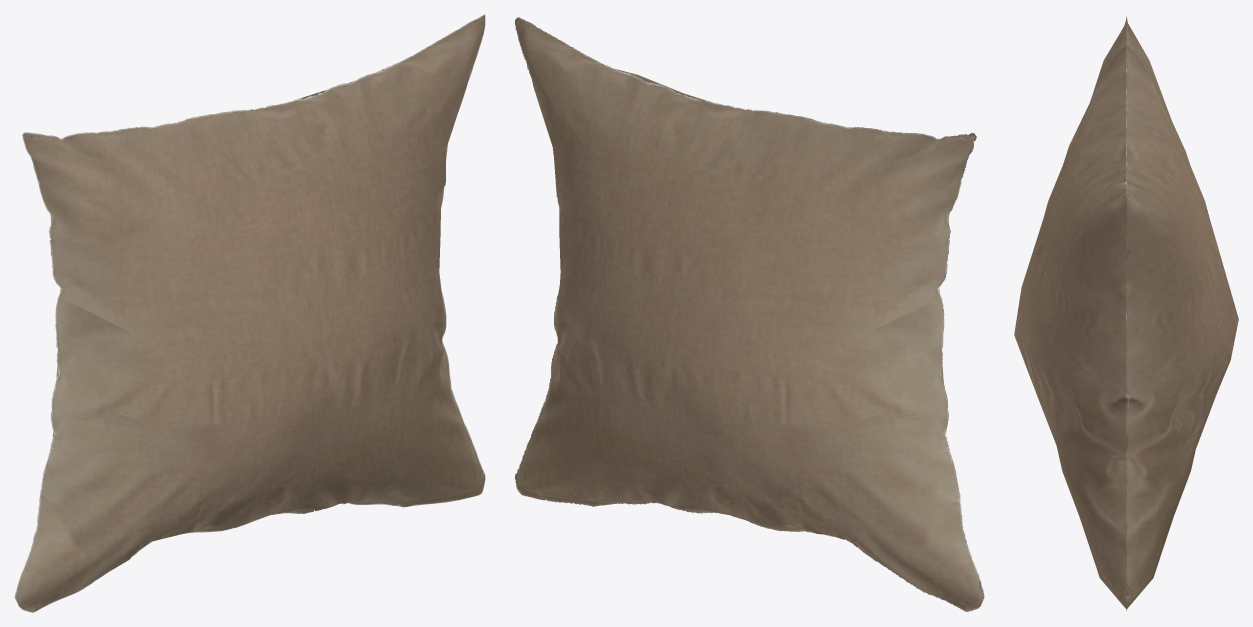
File: cushion_3c4ba0da6dc0.glb
3 views of the same model, side by side, from view 1: azimuth 30°, elevation 25°; view 2: azimuth 150°, elevation 25°; view 3: azimuth 270°, elevation 25° (orthographic). The views are drawn at different scales.
Visible parts, largest first — view 1: obj_002_obj.004_0; view 2: obj_002_obj.004_0; view 3: obj_002_obj.004_0.
Part boxes in pixels (bbox=[...]): obj_002_obj.004_0: bbox=[14, 14, 485, 612]; obj_002_obj.004_0: bbox=[514, 17, 984, 611]; obj_002_obj.004_0: bbox=[1014, 16, 1238, 610].
Size of the model in its own units: 98.91 by 98.02 by 47.47.
1 material, 1 textured.
